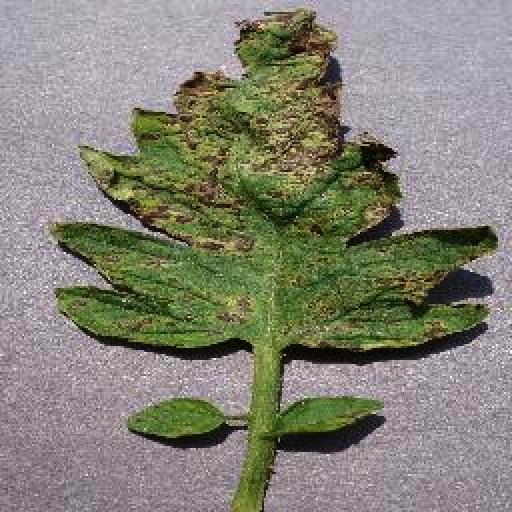disease_tomato: (55, 8, 500, 354)
